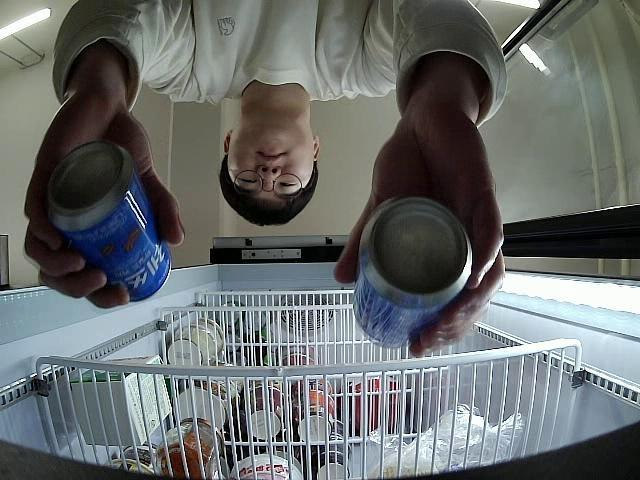15_letsbe: (44, 140, 172, 303), (351, 192, 475, 350)
